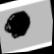correct: (0, 5, 37, 45)
